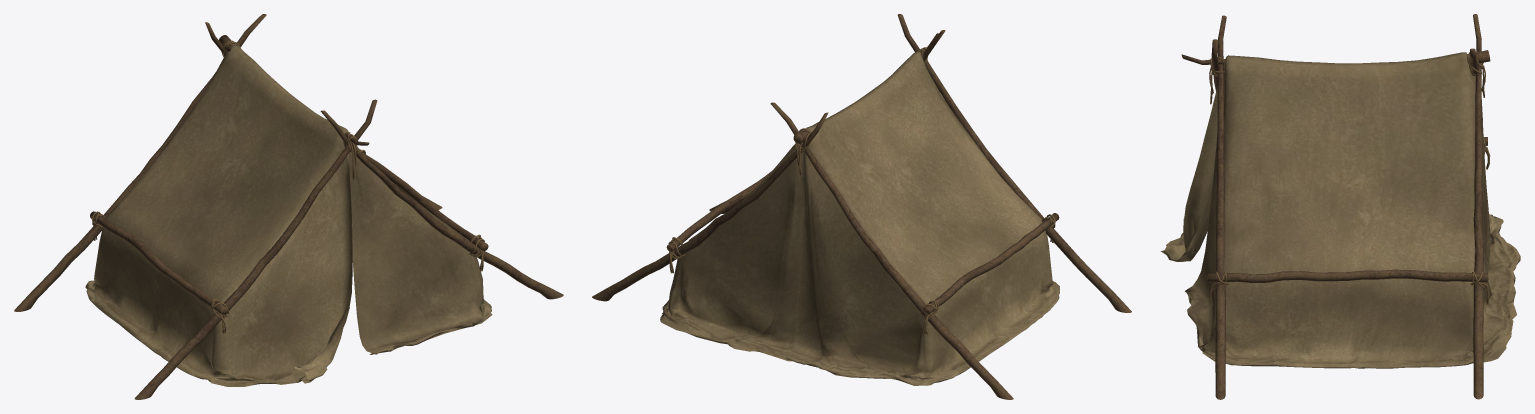
The model's file is tenda_sketchfab_gajk.gltf.
The picture shows the model from 3 angles, left to right: view 1: azimuth 30°, elevation 25°; view 2: azimuth 150°, elevation 25°; view 3: azimuth 270°, elevation 25°; orthographic projection. The views are drawn at different scales.
Parts seen in each view (by area): view 1: tenda_sketchfab_gajk; view 2: tenda_sketchfab_gajk; view 3: tenda_sketchfab_gajk.
Part boxes in pixels (x1,y1,x2,y2): tenda_sketchfab_gajk: [14, 14, 563, 399]; tenda_sketchfab_gajk: [592, 14, 1131, 399]; tenda_sketchfab_gajk: [1160, 14, 1520, 399].
Bounding box in the file's own units: 4.18 × 2.27 × 2.84.
Materials: 3 (3 with a texture image).
